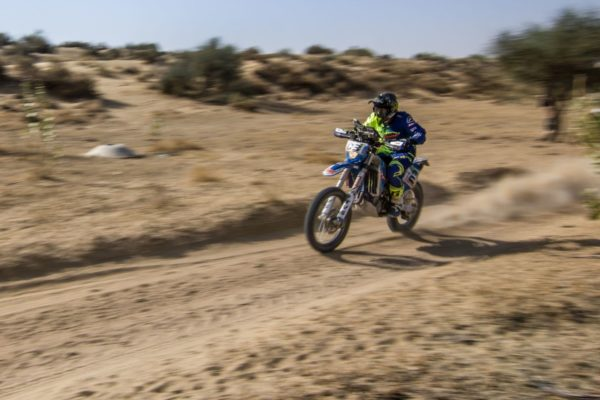helmet: (364, 92, 402, 129)
